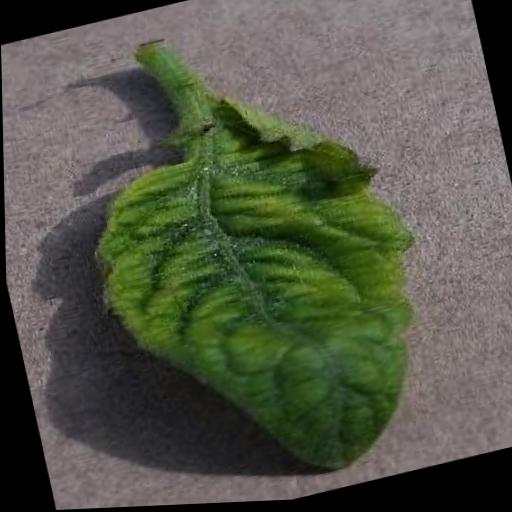Yellow Leaf Curl Virus: (63, 64, 456, 510)
